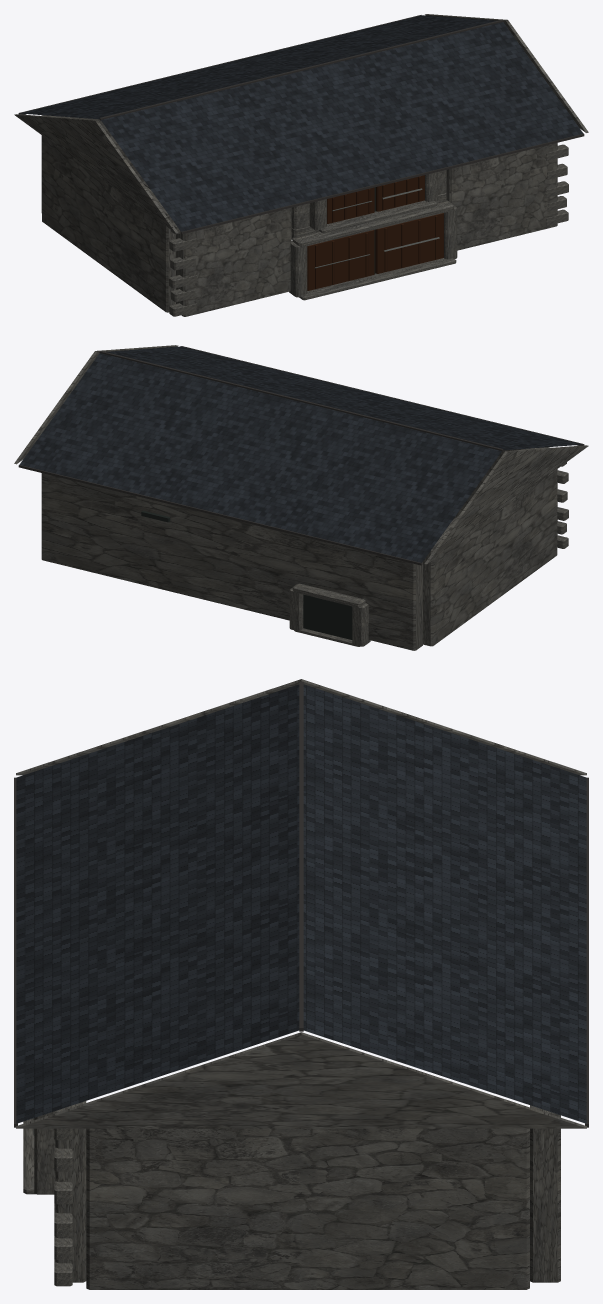
File: barn_final_material_harmony.glb
3 views of the same model, one above another, from view 1: azimuth 30°, elevation 25°; view 2: azimuth 150°, elevation 25°; view 3: azimuth 270°, elevation 25° (orthographic). The views are drawn at different scales.
Visible parts, largest first — view 1: V0347_Barn_Rendered_Geometry_Truth; view 2: V0347_Barn_Rendered_Geometry_Truth; view 3: V0347_Barn_Rendered_Geometry_Truth.
Boxes of the visible parts, <box> form: V0347_Barn_Rendered_Geometry_Truth: <box>14,14,588,316</box>; V0347_Barn_Rendered_Geometry_Truth: <box>14,345,588,650</box>; V0347_Barn_Rendered_Geometry_Truth: <box>14,679,588,1289</box>.
Size of the model in its own units: 15.74 by 5.71 by 10.76.
Materials: 6 (3 with a texture image).
